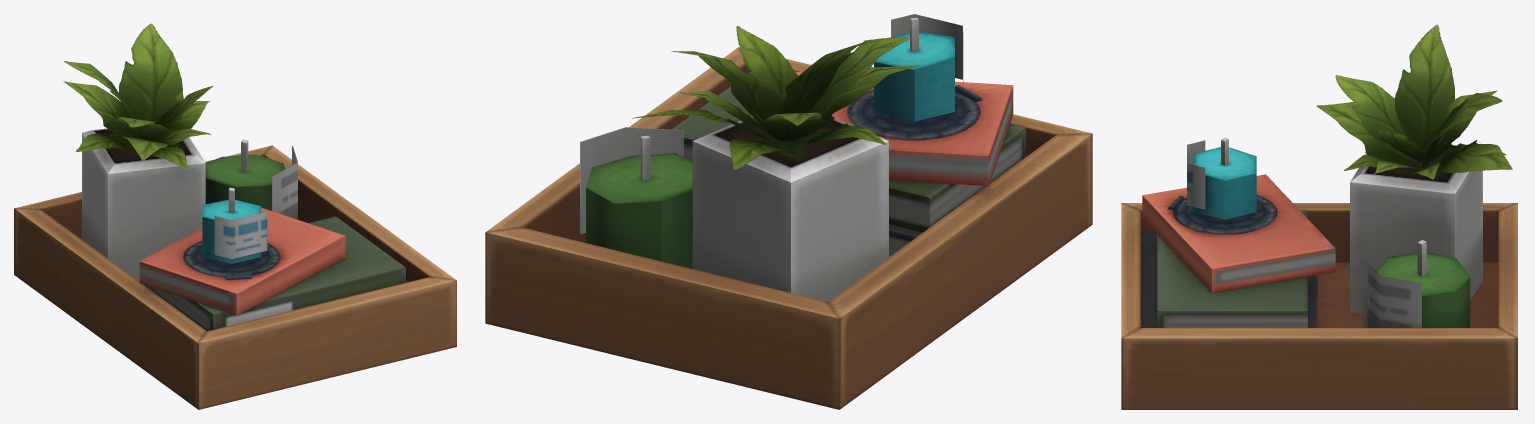
Rendered from MyKindaZen.fbx.
The picture shows the model from 3 angles, left to right: view 1: azimuth 30°, elevation 25°; view 2: azimuth 150°, elevation 25°; view 3: azimuth 270°, elevation 25°; orthographic projection. The views are drawn at different scales.
Visible parts, largest first — view 1: TinyLiving_MyKindaZen; view 2: TinyLiving_MyKindaZen; view 3: TinyLiving_MyKindaZen.
Part boxes in pixels (x1=…): TinyLiving_MyKindaZen: x1=14, y1=23, x2=456, y2=409; TinyLiving_MyKindaZen: x1=485, y1=14, x2=1092, y2=409; TinyLiving_MyKindaZen: x1=1121, y1=24, x2=1517, y2=409.
Bounding box in the file's own units: 37.85 × 34.14 × 47.19.
